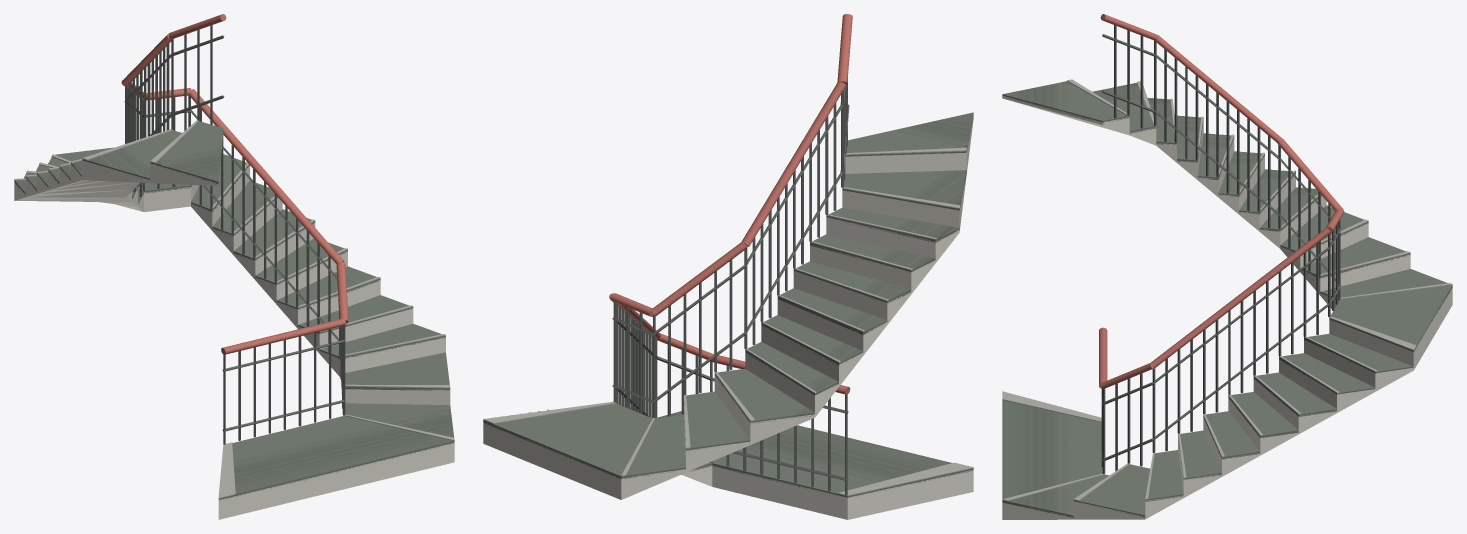
The model's file is liangyou-angular-three-flight-stair-near.glb.
The picture shows the model from 3 angles, left to right: view 1: azimuth 30°, elevation 25°; view 2: azimuth 150°, elevation 25°; view 3: azimuth 270°, elevation 25°; orthographic projection. The views are drawn at different scales.
Parts seen in each view (by area): view 1: 良友公寓多边形楼梯井与折角木扶手; view 2: 良友公寓多边形楼梯井与折角木扶手; view 3: 良友公寓多边形楼梯井与折角木扶手.
Part boxes in pixels (x1,y1,x2,y2): 良友公寓多边形楼梯井与折角木扶手: [14, 14, 454, 519]; 良友公寓多边形楼梯井与折角木扶手: [483, 14, 973, 519]; 良友公寓多边形楼梯井与折角木扶手: [1002, 14, 1452, 519].
Size of the model in its own units: 3.57 by 4.22 by 4.06.
Materials: 5 (1 with a texture image).
